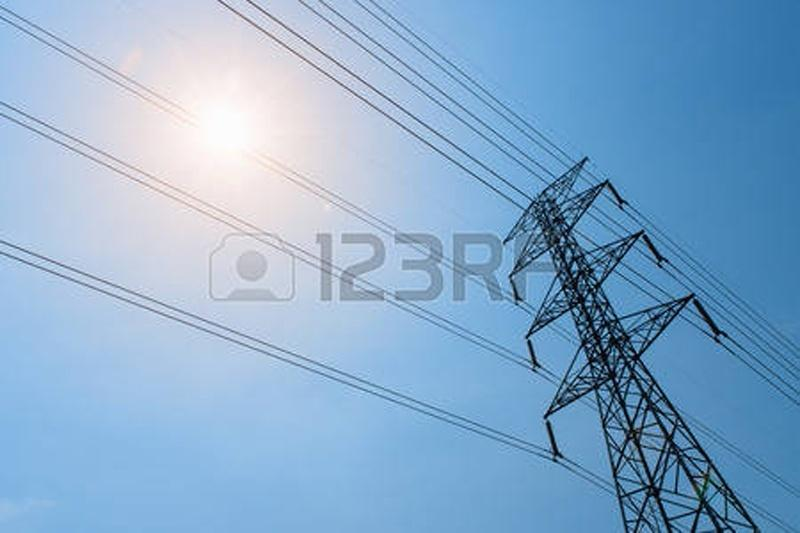power_tower: (471, 149, 767, 530)
